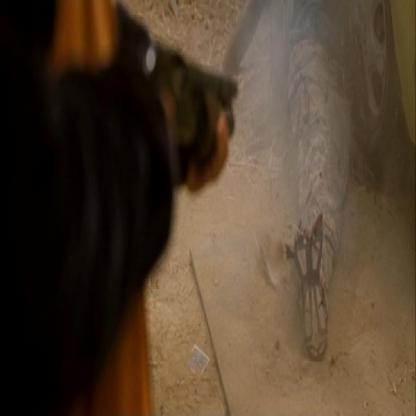Guns: (119, 19, 242, 216)
